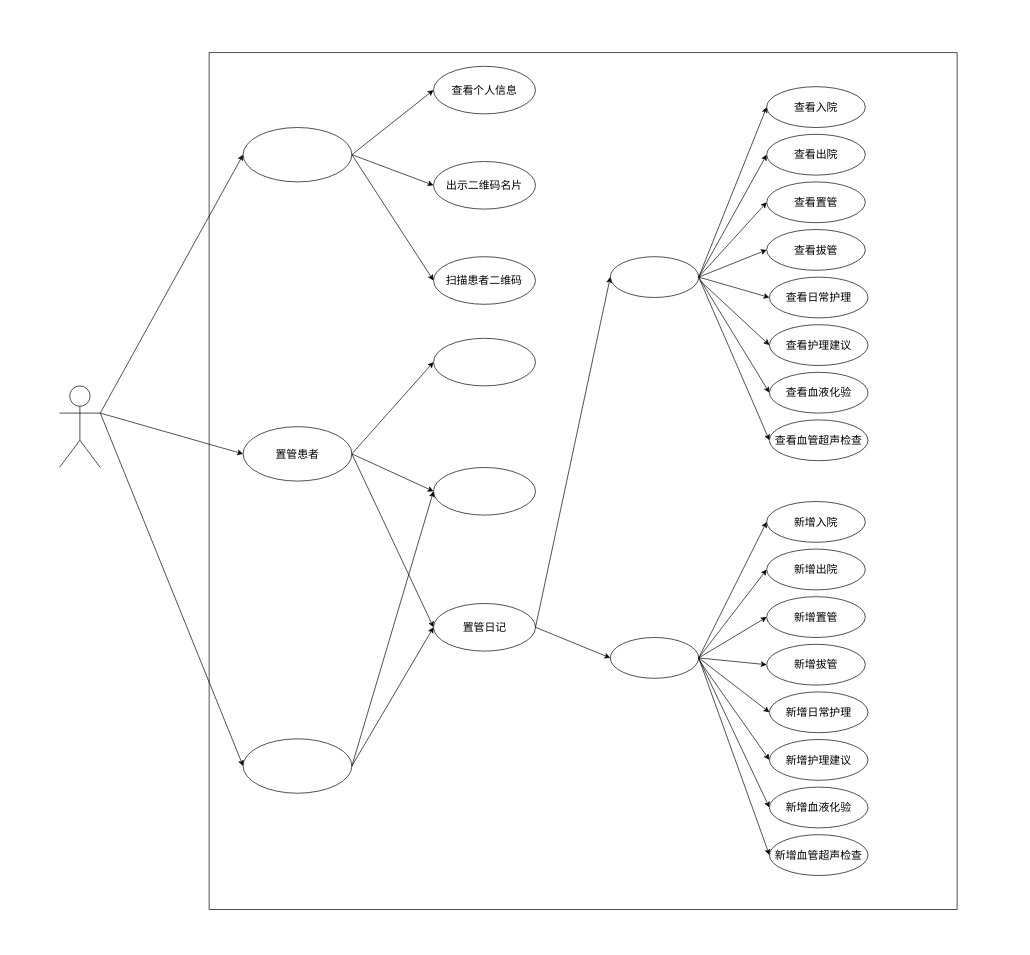
Some shapes in this 1030 by 955 pixel diagram are drawn without their labels. Here are the shapes that lost their labels. From the top down, the box of each, then its label:
(242, 127, 352, 182): 个人中心
(610, 256, 699, 298): 查看日记
(433, 338, 536, 386): 风险预测
(59, 385, 100, 468): 医护
(433, 467, 536, 515): 查看患者信息
(610, 637, 699, 678): 新增日记
(242, 738, 352, 793): 所有患者
